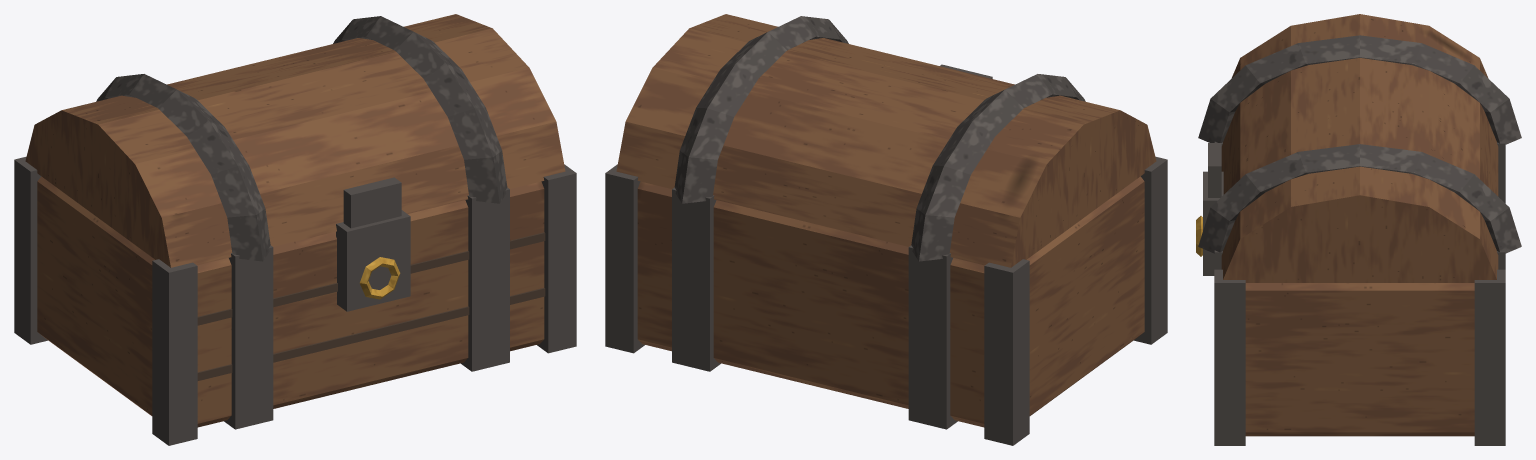
Rendered from small_wooden_chest.glb.
3 views of the same model, side by side, from view 1: azimuth 30°, elevation 25°; view 2: azimuth 150°, elevation 25°; view 3: azimuth 270°, elevation 25° (orthographic). The views are drawn at different scales.
Visible parts, largest first — view 1: small_wooden_chest_hinged_lid, small_wooden_chest_body, small_wooden_chest_straps; view 2: small_wooden_chest_hinged_lid, small_wooden_chest_body, small_wooden_chest_straps; view 3: small_wooden_chest_hinged_lid, small_wooden_chest_body, small_wooden_chest_straps.
Boxes of the visible parts, <box> form: small_wooden_chest_hinged_lid: <box>25,14,565,267</box>; small_wooden_chest_body: <box>37,176,545,427</box>; small_wooden_chest_straps: <box>14,156,576,445</box>; small_wooden_chest_hinged_lid: <box>616,14,1156,267</box>; small_wooden_chest_body: <box>637,176,1144,427</box>; small_wooden_chest_straps: <box>605,156,1167,445</box>; small_wooden_chest_hinged_lid: <box>1198,14,1521,282</box>; small_wooden_chest_body: <box>1245,283,1474,436</box>; small_wooden_chest_straps: <box>1196,141,1505,445</box>.
Size of what is drawn, in the model's own units: 0.641 by 0.4188 by 0.471.
4 materials, 4 textured.
